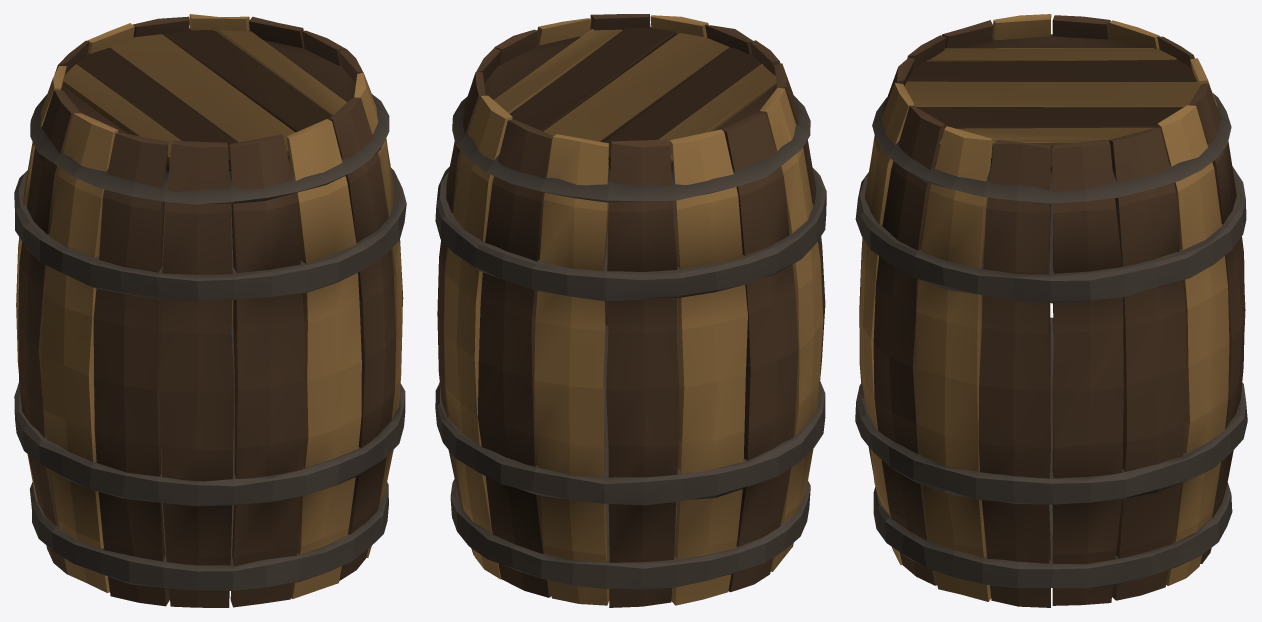
The model's file is barrel.glb.
The picture shows the model from 3 angles, left to right: view 1: azimuth 30°, elevation 25°; view 2: azimuth 150°, elevation 25°; view 3: azimuth 270°, elevation 25°; orthographic projection.
Visible parts, largest first — view 1: Barrel; view 2: Barrel; view 3: Barrel.
Boxes of the visible parts, x1=… form: Barrel: x1=14, y1=14, x2=406, y2=607; Barrel: x1=435, y1=14, x2=826, y2=607; Barrel: x1=855, y1=14, x2=1247, y2=607.
Size of the model in its own units: 0.7015 by 0.9059 by 0.7008.
